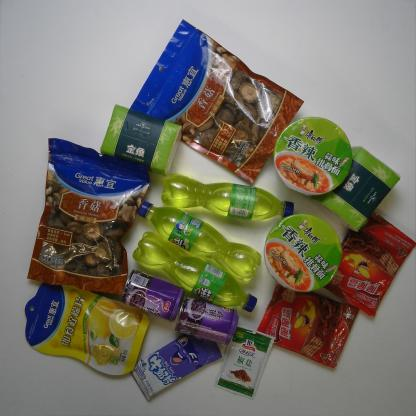Candy: (126, 334, 225, 403)
Canned Food: (173, 294, 240, 346), (120, 269, 185, 322)
Dessert: (321, 212, 416, 320), (255, 281, 360, 369)
Dried Food: (130, 18, 305, 188), (25, 136, 152, 297)
Dried Fruit: (22, 283, 152, 379)
Drink: (132, 229, 257, 313), (136, 200, 262, 283), (159, 174, 295, 222)
Instant Noodles: (272, 116, 355, 198), (262, 212, 343, 294)
Seasoner: (213, 326, 277, 401)
Tissue: (306, 145, 401, 236), (99, 102, 184, 179)
